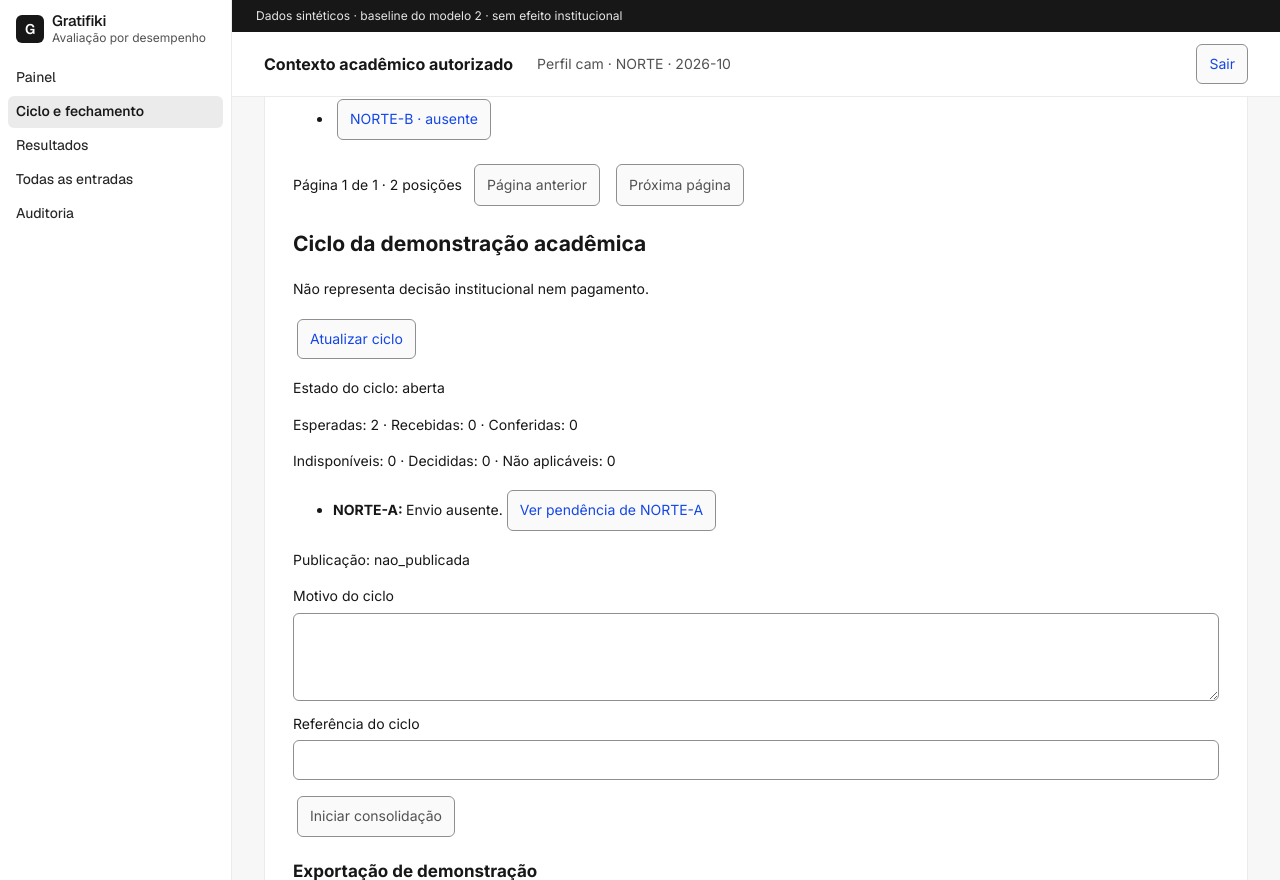
Test: executes each checklist intent for the same authorized target: A-B-A
(page scrolled)
Step 1. Click the button "Ver pendência de NORTE-A" → (611, 510), box [507,490,716,531]
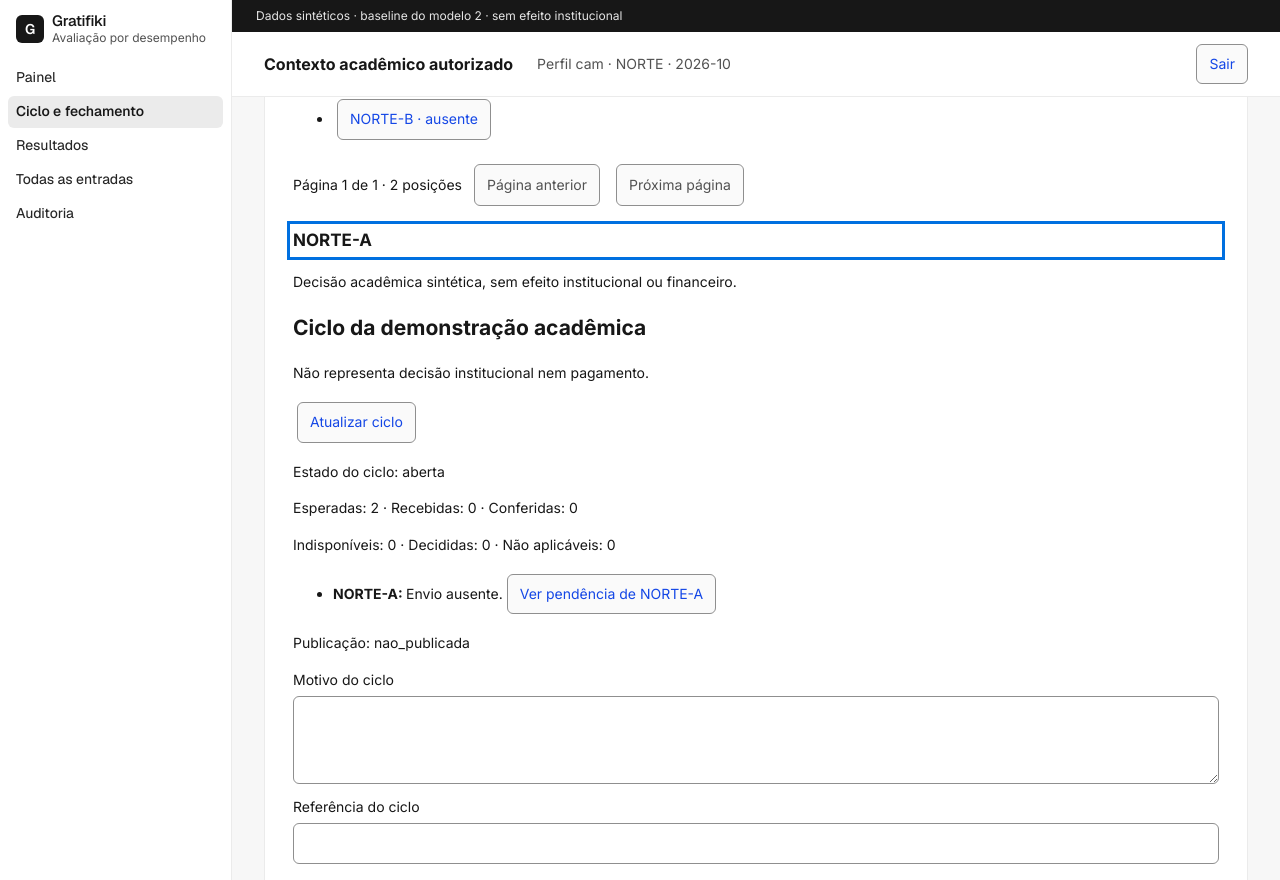
expect the heading "NORTE-A" is shown: met, box [293,230,372,250]
Step 2. Click the button "NORTE-B · ausente" → (414, 119), box [337,99,491,140]
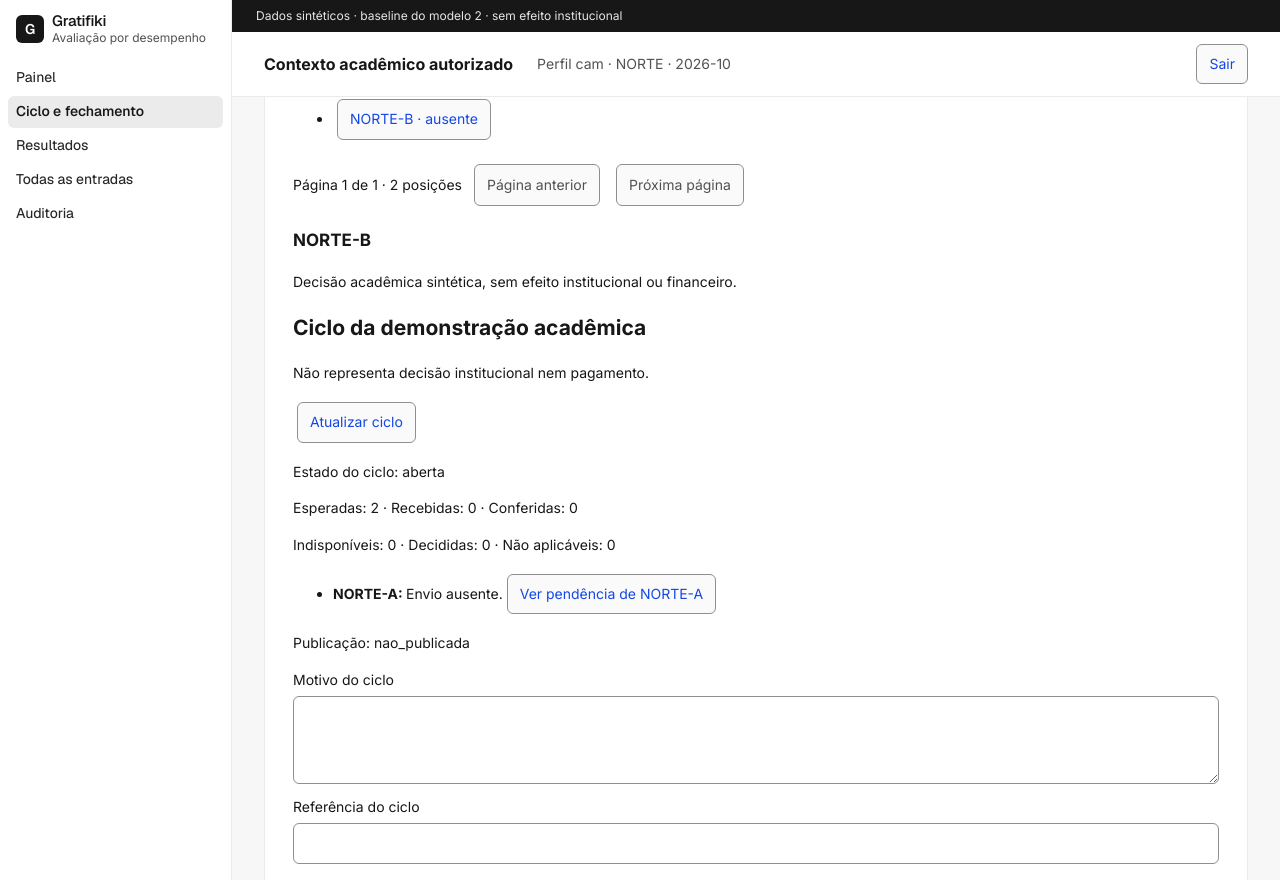
expect the heading "NORTE-B" is shown: met, box [293,230,371,250]
Step 3. Click the button "Ver pendência de NORTE-A" → (611, 594), box [507,574,716,614]
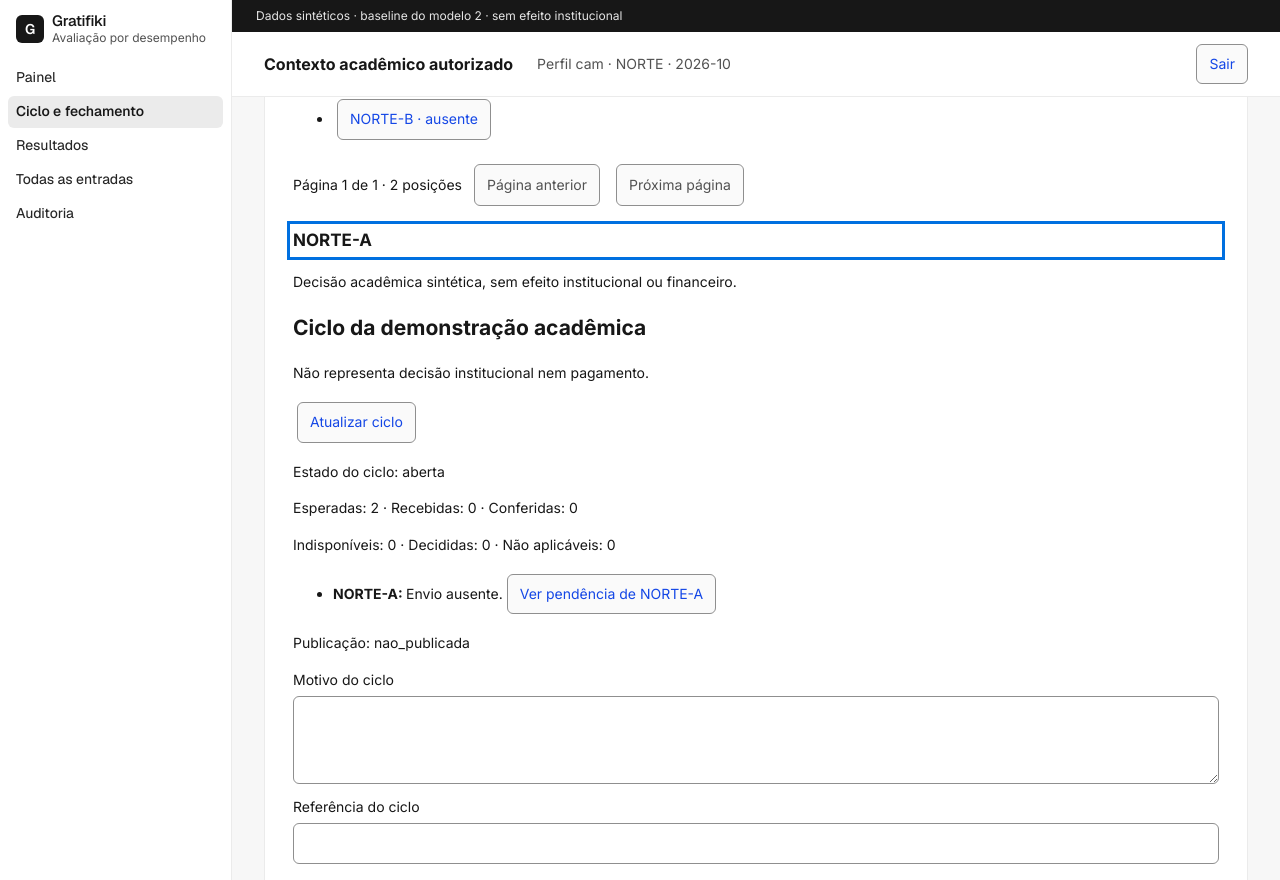
expect the heading "NORTE-A" is shown: met, box [293,230,372,250]
